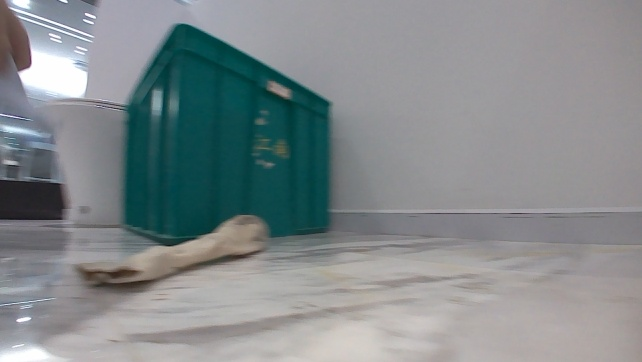socks: (74, 210, 270, 289)
toilet: (44, 95, 132, 228)
